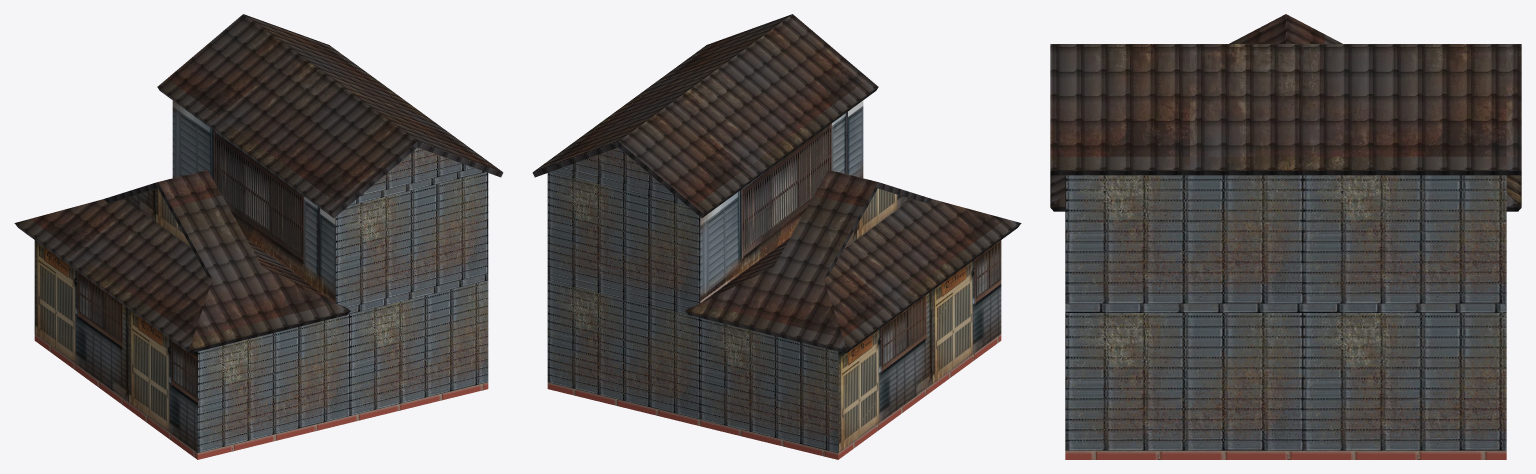
The model's file is psx_traditional_japanease_house_1.glb.
3 views of the same model, side by side, from view 1: azimuth 30°, elevation 25°; view 2: azimuth 150°, elevation 25°; view 3: azimuth 270°, elevation 25° (orthographic). The views are drawn at different scales.
Parts seen in each view (by area): view 1: Segmented Roof Side_TR85O8dNQimqPc_yHrp4RA_{0b7b2f76-2b9d-41, Wall_dWv88StaRdKwyKSPsNrPNg_{17c6c84a-fb77-4817-a8e5-efdc0ee, Wall_dlR5rfEASZ6Ksx5eTcJmKw_{d1323904-72b8-4898-84a5-eae074d, Wall_ZHt3GDXuQy--6mqW5GK1zA_{b9400a6d-6b2c-4061-b723-602da33, Slab_jqlJEN-ZQHeh4RA5_siOGg_{7aab4d66-75f4-6743-bfdb-e7d7289, Segmented Roof Side_TR85O8dNQimqPc_yHrp4RA_{2eee41d9-2c3f-4e, Slab_ioM-SYCDTPSa1XqCcOOD6A_{5b60cfa5-da12-47a4-9dbe-228d4bb; view 2: Segmented Roof Side_TR85O8dNQimqPc_yHrp4RA_{0b7b2f76-2b9d-41, Wall_dWv88StaRdKwyKSPsNrPNg_{17c6c84a-fb77-4817-a8e5-efdc0ee, Wall_dlR5rfEASZ6Ksx5eTcJmKw_{d1323904-72b8-4898-84a5-eae074d, Wall_ZHt3GDXuQy--6mqW5GK1zA_{b9400a6d-6b2c-4061-b723-602da33, Slab_jqlJEN-ZQHeh4RA5_siOGg_{7aab4d66-75f4-6743-bfdb-e7d7289, Segmented Roof Side_TR85O8dNQimqPc_yHrp4RA_{2eee41d9-2c3f-4e, Slab_ioM-SYCDTPSa1XqCcOOD6A_{5b60cfa5-da12-47a4-9dbe-228d4bb; view 3: Wall_dWv88StaRdKwyKSPsNrPNg_{17c6c84a-fb77-4817-a8e5-efdc0ee, Segmented Roof Side_TR85O8dNQimqPc_yHrp4RA_{0b7b2f76-2b9d-41, Slab_jqlJEN-ZQHeh4RA5_siOGg_{7aab4d66-75f4-6743-bfdb-e7d7289, Slab_ioM-SYCDTPSa1XqCcOOD6A_{5b60cfa5-da12-47a4-9dbe-228d4bb.
Boxes of the visible parts, x1,y1,x2,y2 form: Segmented Roof Side_TR85O8dNQimqPc_yHrp4RA_{0b7b2f76-2b9d-41: (14, 14, 502, 350); Wall_dWv88StaRdKwyKSPsNrPNg_{17c6c84a-fb77-4817-a8e5-efdc0ee: (197, 147, 488, 452); Wall_dlR5rfEASZ6Ksx5eTcJmKw_{d1323904-72b8-4898-84a5-eae074d: (34, 188, 197, 452); Wall_ZHt3GDXuQy--6mqW5GK1zA_{b9400a6d-6b2c-4061-b723-602da33: (172, 100, 335, 302); Slab_jqlJEN-ZQHeh4RA5_siOGg_{7aab4d66-75f4-6743-bfdb-e7d7289: (34, 334, 488, 459); Segmented Roof Side_TR85O8dNQimqPc_yHrp4RA_{2eee41d9-2c3f-4e: (15, 182, 350, 353); Slab_ioM-SYCDTPSa1XqCcOOD6A_{5b60cfa5-da12-47a4-9dbe-228d4bb: (157, 87, 503, 217); Segmented Roof Side_TR85O8dNQimqPc_yHrp4RA_{0b7b2f76-2b9d-41: (533, 14, 1021, 350); Wall_dWv88StaRdKwyKSPsNrPNg_{17c6c84a-fb77-4817-a8e5-efdc0ee: (547, 147, 838, 452); Wall_dlR5rfEASZ6Ksx5eTcJmKw_{d1323904-72b8-4898-84a5-eae074d: (838, 188, 1001, 452); Wall_ZHt3GDXuQy--6mqW5GK1zA_{b9400a6d-6b2c-4061-b723-602da33: (700, 100, 863, 302); Slab_jqlJEN-ZQHeh4RA5_siOGg_{7aab4d66-75f4-6743-bfdb-e7d7289: (547, 334, 1001, 459); Segmented Roof Side_TR85O8dNQimqPc_yHrp4RA_{2eee41d9-2c3f-4e: (685, 182, 1020, 353); Slab_ioM-SYCDTPSa1XqCcOOD6A_{5b60cfa5-da12-47a4-9dbe-228d4bb: (532, 87, 878, 217); Wall_dWv88StaRdKwyKSPsNrPNg_{17c6c84a-fb77-4817-a8e5-efdc0ee: (1065, 175, 1506, 450); Segmented Roof Side_TR85O8dNQimqPc_yHrp4RA_{0b7b2f76-2b9d-41: (1050, 14, 1521, 207); Slab_jqlJEN-ZQHeh4RA5_siOGg_{7aab4d66-75f4-6743-bfdb-e7d7289: (1065, 450, 1506, 459); Slab_ioM-SYCDTPSa1XqCcOOD6A_{5b60cfa5-da12-47a4-9dbe-228d4bb: (1050, 171, 1521, 175).
Size of the model in its own units: 9.7 by 7.96 by 9.3.
Materials: 13 (10 with a texture image).
